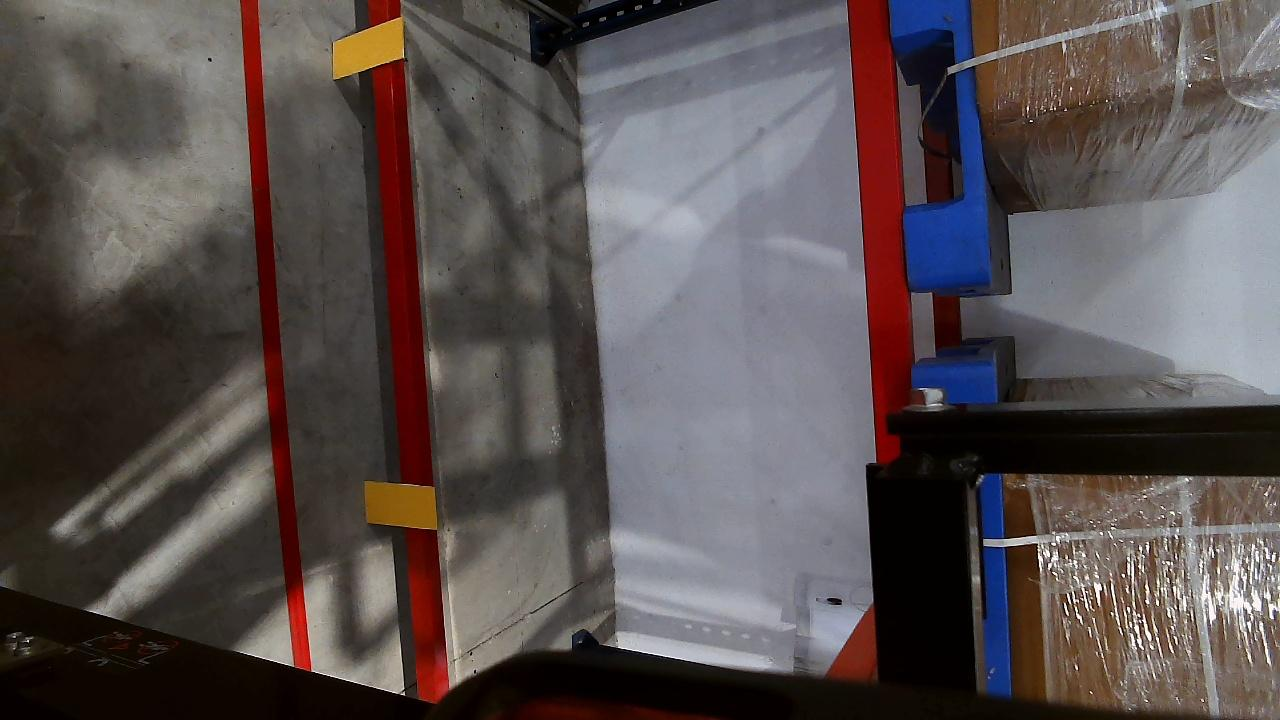h_rack: (365, 0, 451, 697), (844, 3, 915, 462)
orange_strip: (363, 480, 436, 529), (331, 31, 405, 73)
red_line: (238, 54, 307, 659)
small_pallet: (886, 1, 1000, 286)
